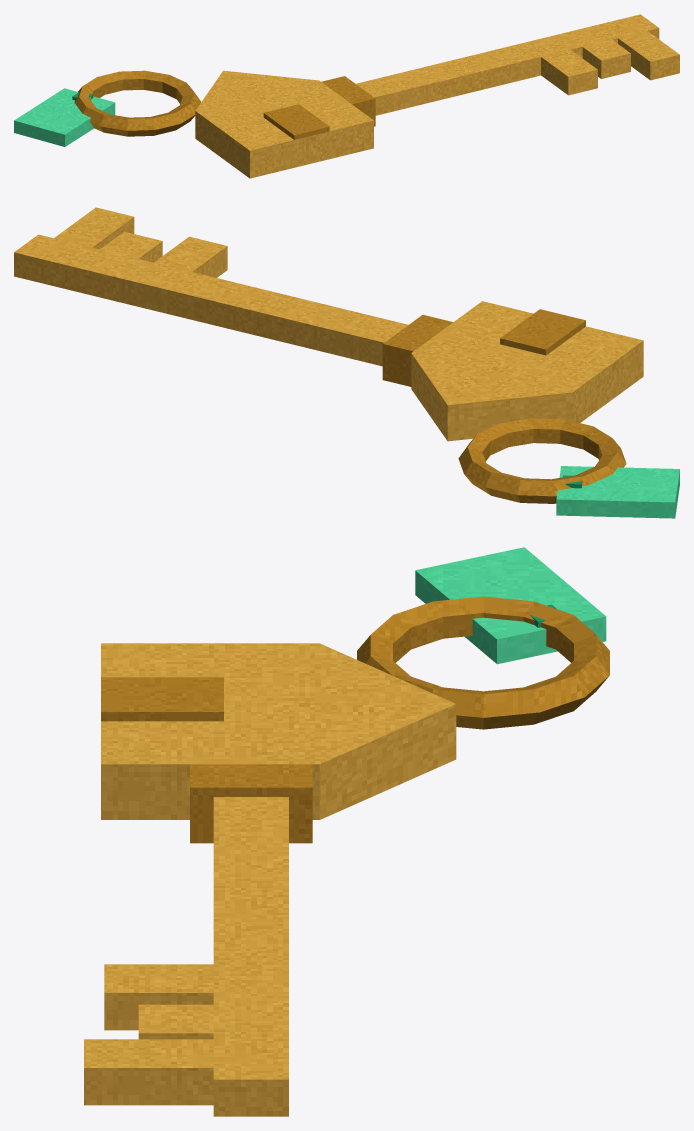
The picture shows the model from 3 angles, top to bottom: view 1: azimuth 30°, elevation 25°; view 2: azimuth 150°, elevation 25°; view 3: azimuth 270°, elevation 25°; orthographic projection. The views are drawn at different scales.
Parts seen in each view (by area): view 1: HouseKey; view 2: HouseKey; view 3: HouseKey.
Boxes of the visible parts, x1,y1,x2,y2 form: HouseKey: [14, 14, 679, 178]; HouseKey: [14, 207, 679, 518]; HouseKey: [84, 547, 609, 1116].
Bounding box in the file's own units: 0.192 × 0.0105 × 0.077.
Materials: 4 (4 with a texture image).
